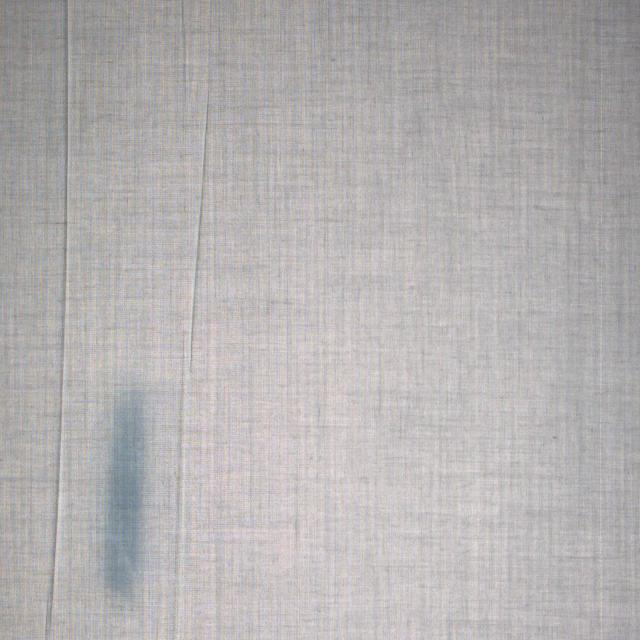dirty: (110, 386, 144, 601)
